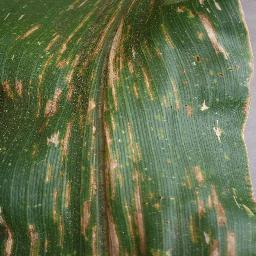Gray_Leaf_Spot: (1, 0, 117, 138), (118, 0, 175, 106), (101, 136, 145, 256), (75, 134, 102, 256), (235, 73, 253, 217), (183, 181, 228, 227), (193, 17, 229, 64), (53, 176, 72, 256), (235, 4, 256, 76), (191, 228, 242, 256), (38, 136, 68, 179), (21, 220, 48, 256), (0, 200, 15, 256), (152, 107, 172, 148), (167, 1, 224, 15), (122, 117, 139, 152), (208, 119, 229, 147), (183, 162, 214, 180), (145, 238, 175, 256), (199, 94, 219, 114), (174, 95, 193, 116), (202, 57, 225, 74), (147, 191, 170, 208), (1, 143, 13, 168), (181, 67, 189, 92), (25, 147, 37, 160), (26, 200, 43, 209), (165, 154, 174, 171), (144, 171, 155, 179), (195, 82, 202, 93), (29, 170, 38, 178), (187, 154, 191, 171), (182, 39, 188, 48), (3, 175, 8, 182), (172, 194, 174, 203)
